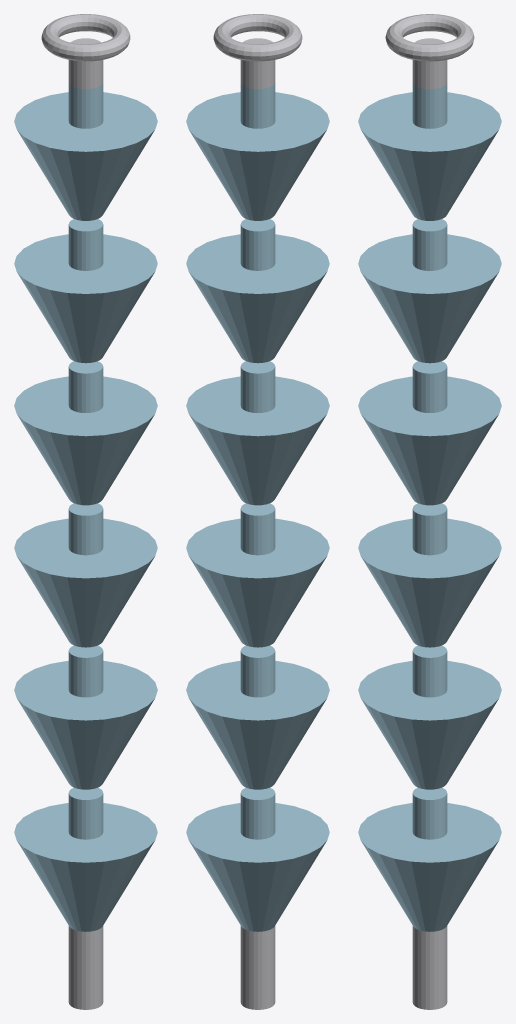
File: Cadena_747mm.fbx
The picture shows the model from 3 angles, left to right: view 1: azimuth 30°, elevation 25°; view 2: azimuth 150°, elevation 25°; view 3: azimuth 270°, elevation 25°; orthographic projection.
Parts seen in each view (by area): view 1: Cadena_747mm; view 2: Cadena_747mm; view 3: Cadena_747mm.
Part boxes in pixels (<box>): Cadena_747mm: <box>14,14,157,1009</box>; Cadena_747mm: <box>186,14,329,1009</box>; Cadena_747mm: <box>358,14,501,1009</box>.
Size of the model in its own units: 10 by 74.7 by 10.
